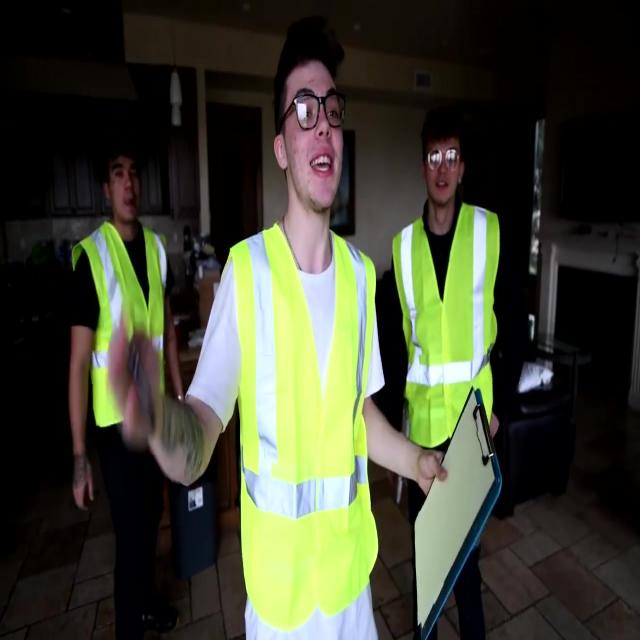Reflective-Jacket: (221, 218, 378, 634), (387, 199, 507, 464), (60, 213, 180, 449)
